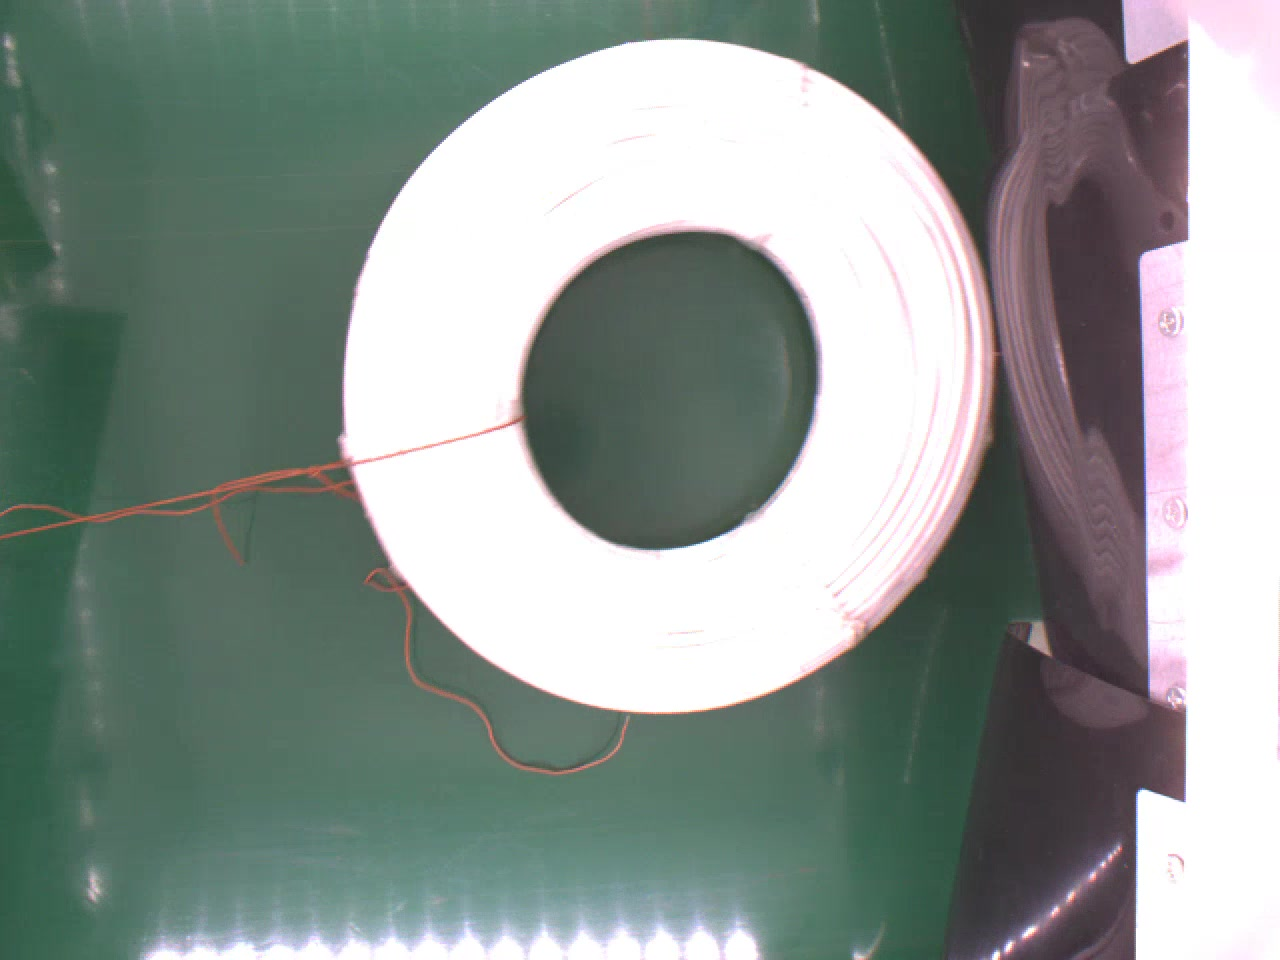white: (339, 35, 1002, 711)
